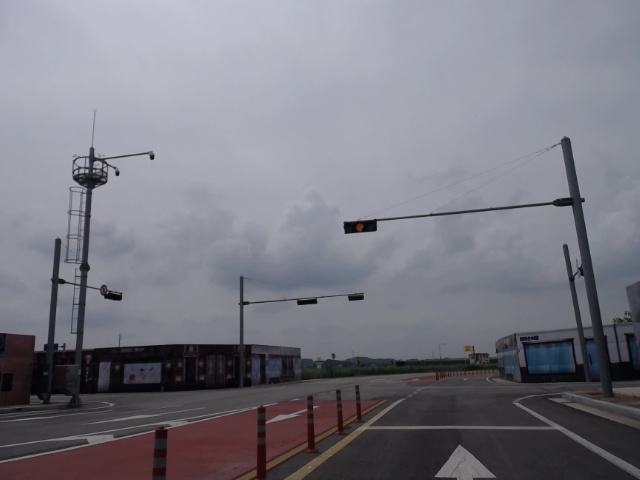orange_3: (344, 219, 377, 234)
